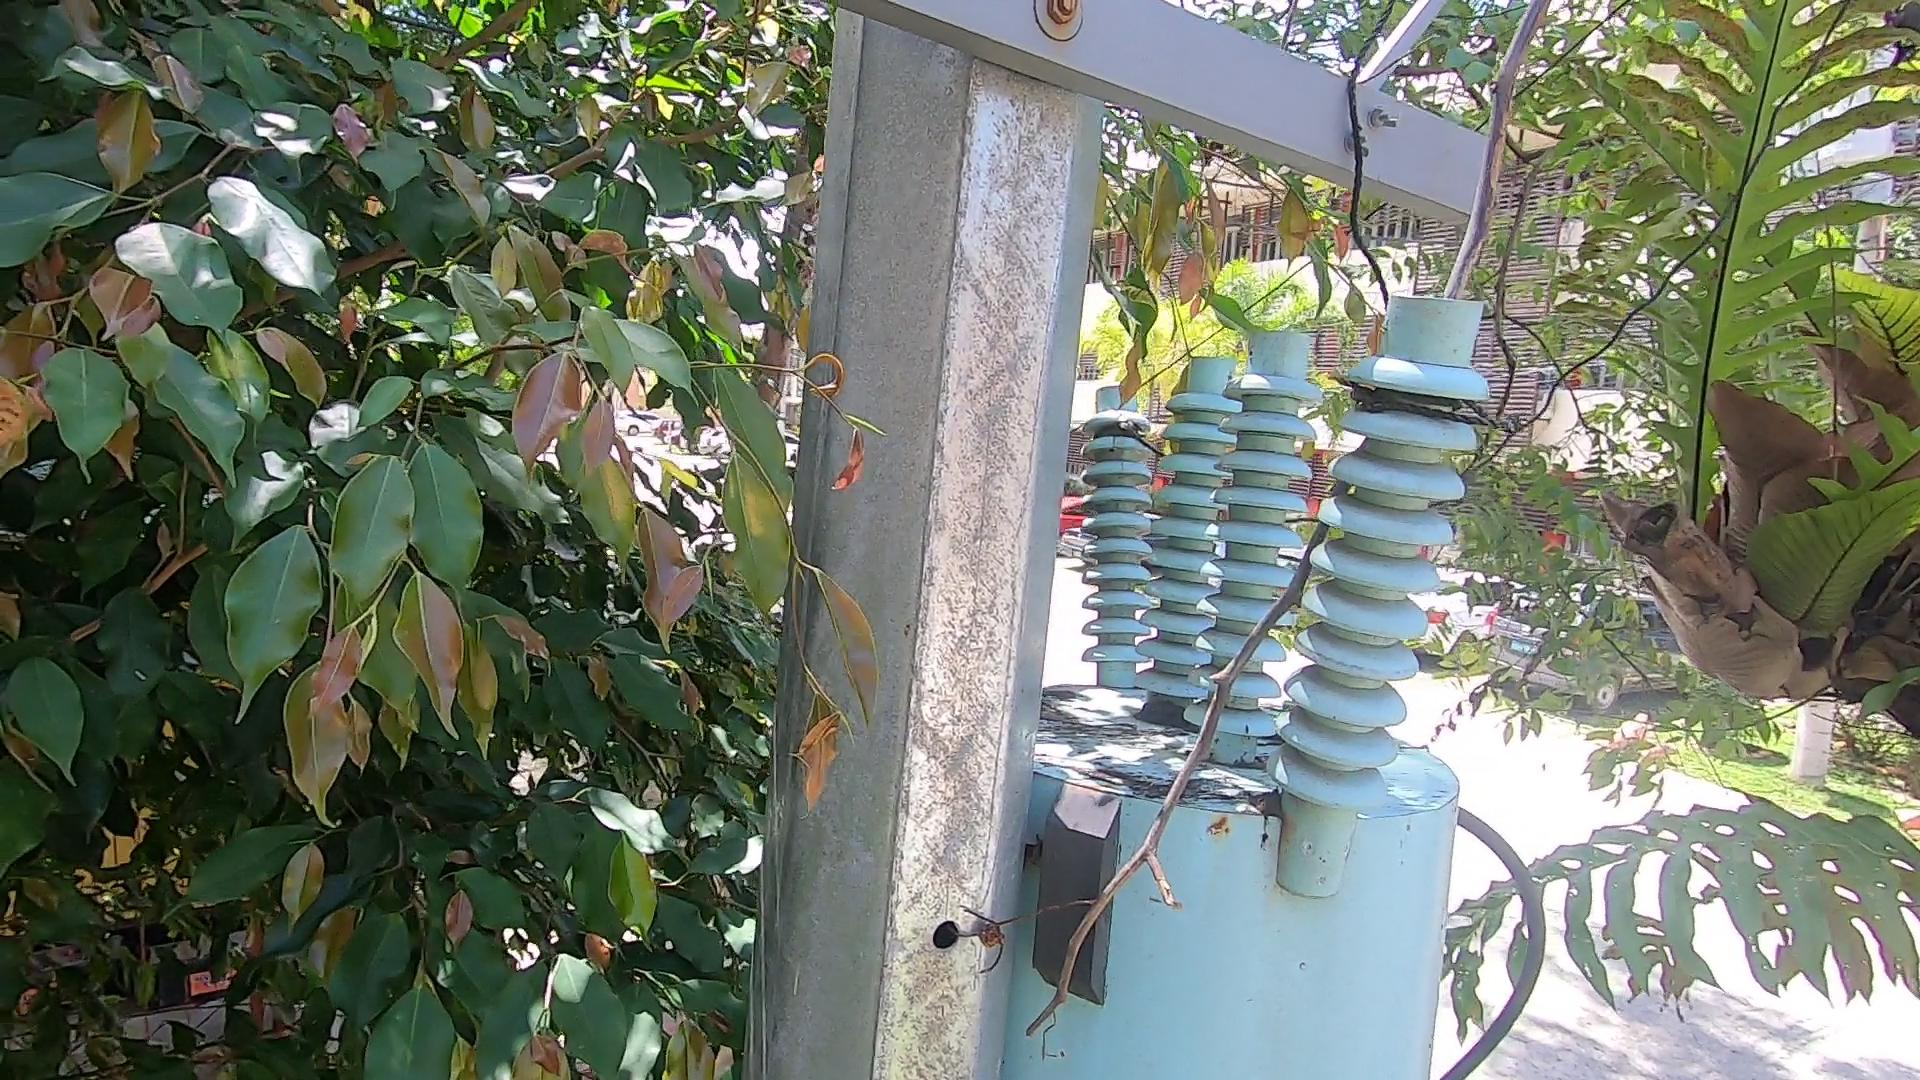branch with leaves: (1106, 196, 1385, 402)
leaf: (1249, 785, 1295, 829), (1145, 707, 1189, 735)
tree branch: (906, 9, 1660, 1036)
